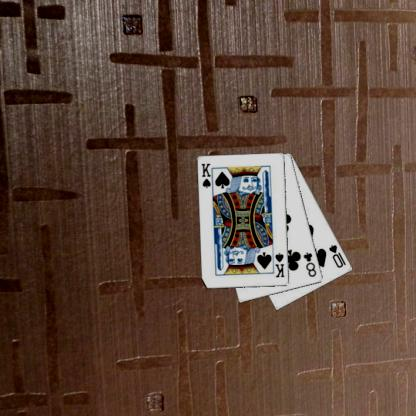10S: (327, 242, 347, 269)
8C: (301, 249, 318, 278)
KS: (199, 161, 215, 192), (273, 250, 286, 279)
